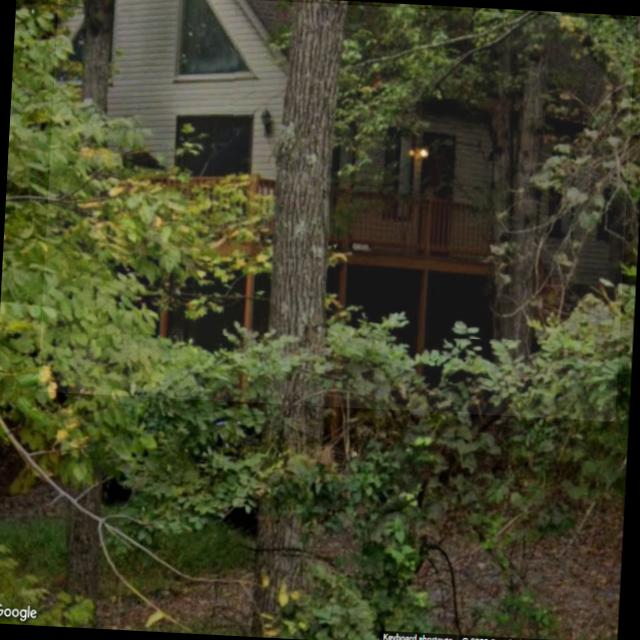House: (38, 0, 636, 421)
